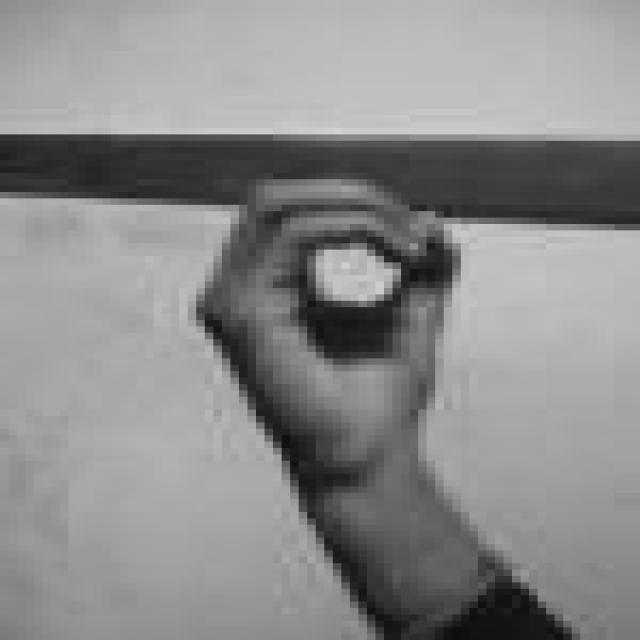O: (184, 160, 482, 454)
